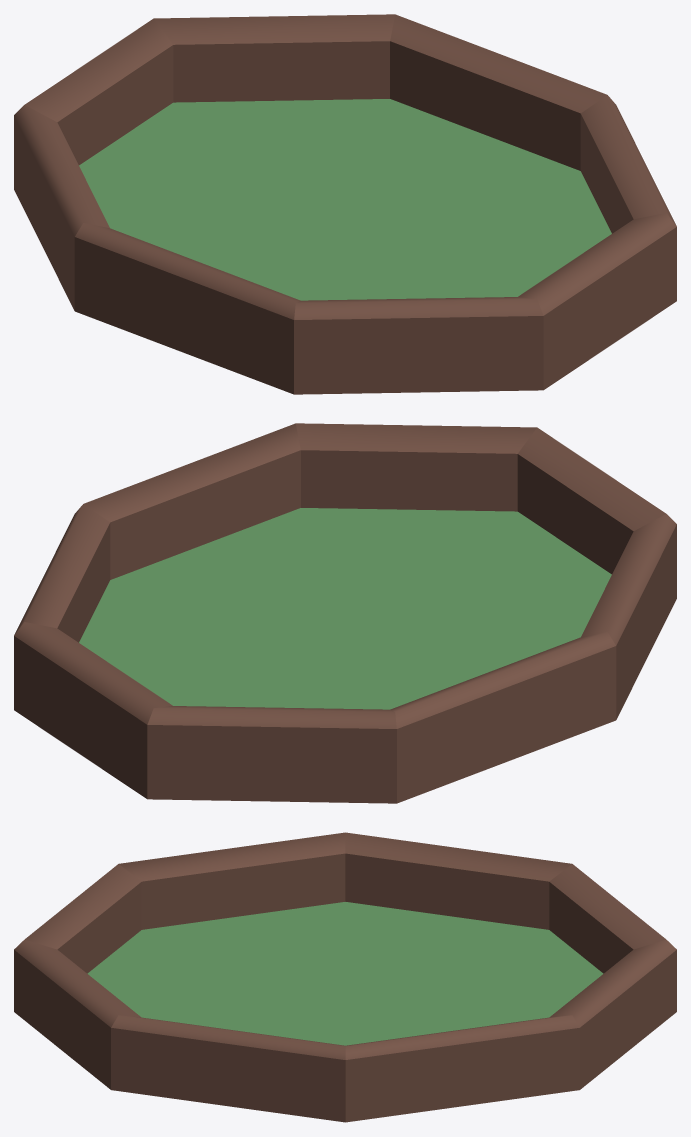
Rendered from Picture.fbx.
The picture shows the model from 3 angles, top to bottom: view 1: azimuth 30°, elevation 25°; view 2: azimuth 150°, elevation 25°; view 3: azimuth 270°, elevation 25°; orthographic projection. The views are drawn at different scales.
Visible parts, largest first — view 1: Picture1; view 2: Picture1; view 3: Picture1.
Boxes of the visible parts, x1,y1,x2,y2 form: Picture1: [14, 14, 676, 394]; Picture1: [14, 423, 676, 803]; Picture1: [14, 832, 676, 1122].
Size of the model in its own units: 15.21 by 2.32 by 19.28.
